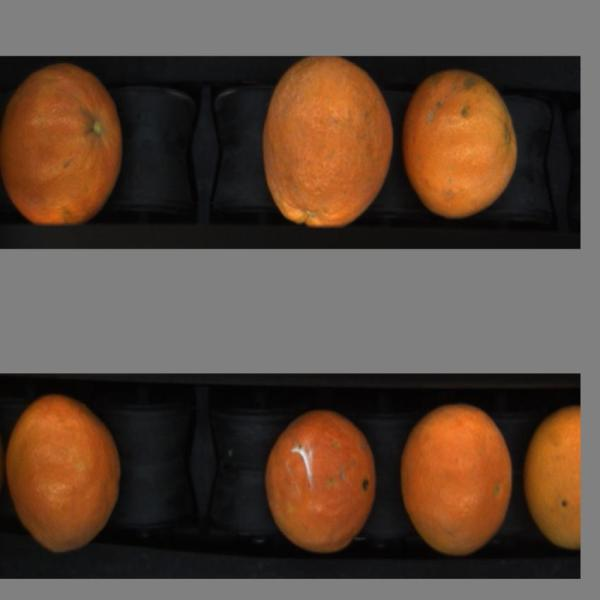Otros defectos: (258, 57, 401, 236), (391, 394, 523, 566), (1, 62, 130, 235), (5, 386, 132, 560), (402, 60, 528, 228), (257, 404, 387, 560), (521, 395, 579, 561)
